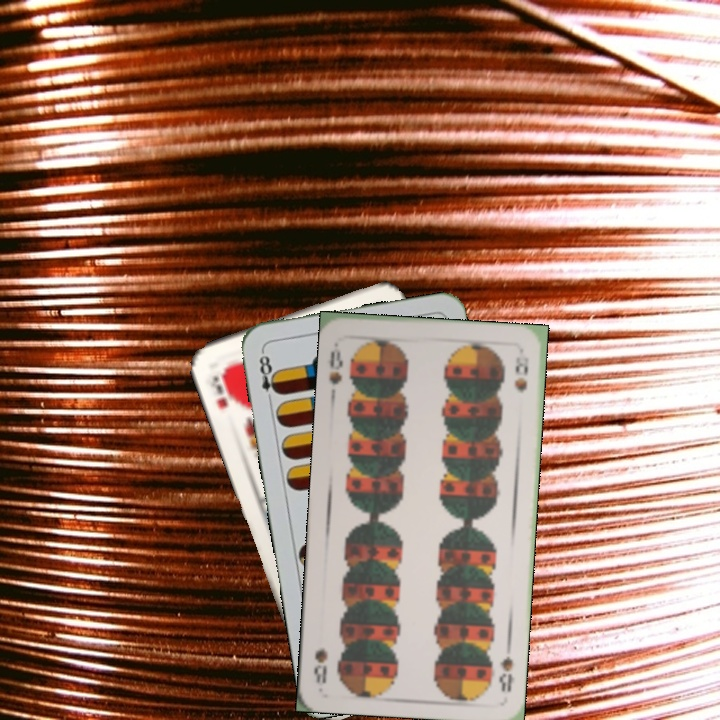E8: (255, 347, 282, 406)
HK: (205, 368, 238, 412)
S8: (495, 638, 516, 695), (325, 343, 345, 387)
